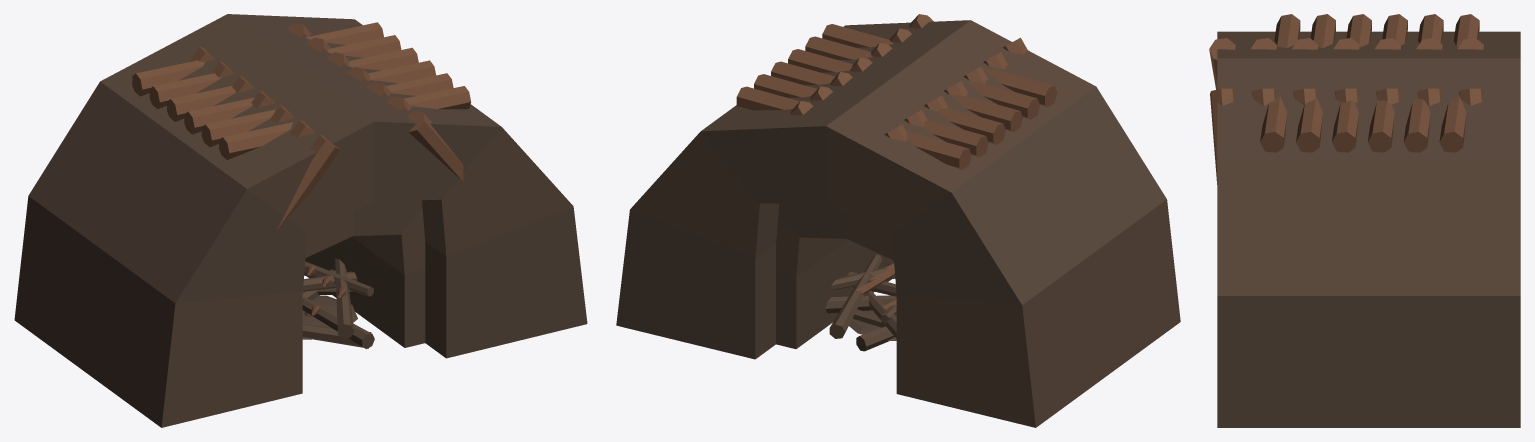
File: wildlife-habitat-v4.glb
The picture shows the model from 3 angles, left to right: view 1: azimuth 30°, elevation 25°; view 2: azimuth 150°, elevation 25°; view 3: azimuth 270°, elevation 25°; orthographic projection. The views are drawn at different scales.
Visible parts, largest first — view 1: Shell, Shell.001, Branches, Cache; view 2: Shell, Shell.001, Branches; view 3: Shell.
Boxes of the visible parts, x1,y1,x2,y2 form: Shell: (14,14,587,427); Shell.001: (302,200,425,347); Branches: (302,258,374,349); Cache: (302,295,357,339); Shell: (616,14,1180,427); Shell.001: (776,203,896,348); Branches: (825,254,896,351); Shell: (1209,14,1520,427).
Bounding box in the file's own units: 2.58 × 1.47 × 1.58.
